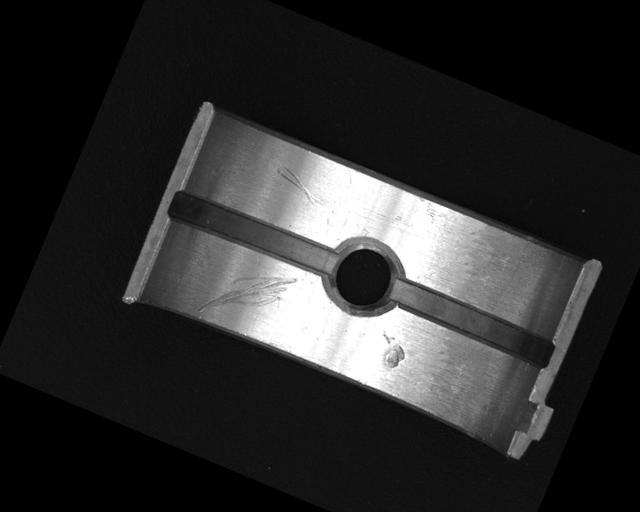bruise: (371, 330, 411, 371)
gap: (166, 185, 342, 284), (385, 274, 556, 369)
hole: (320, 230, 410, 323)
nick: (198, 248, 299, 343), (269, 163, 329, 209)
